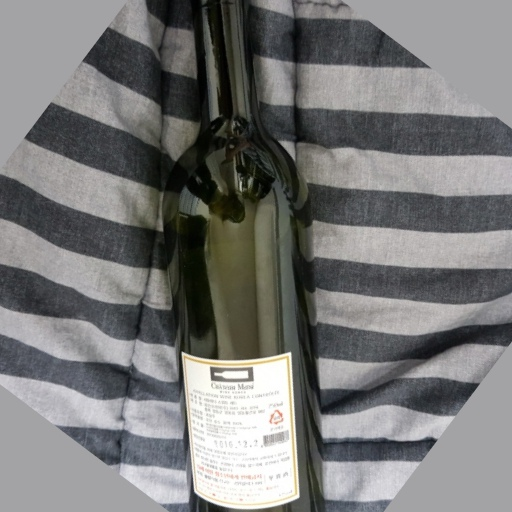Glass_2: (161, 2, 330, 512)
